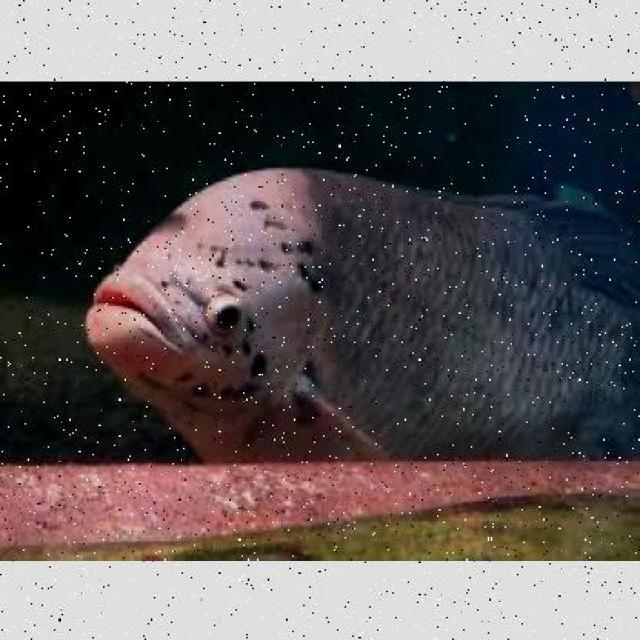gurame: (93, 164, 633, 452)
